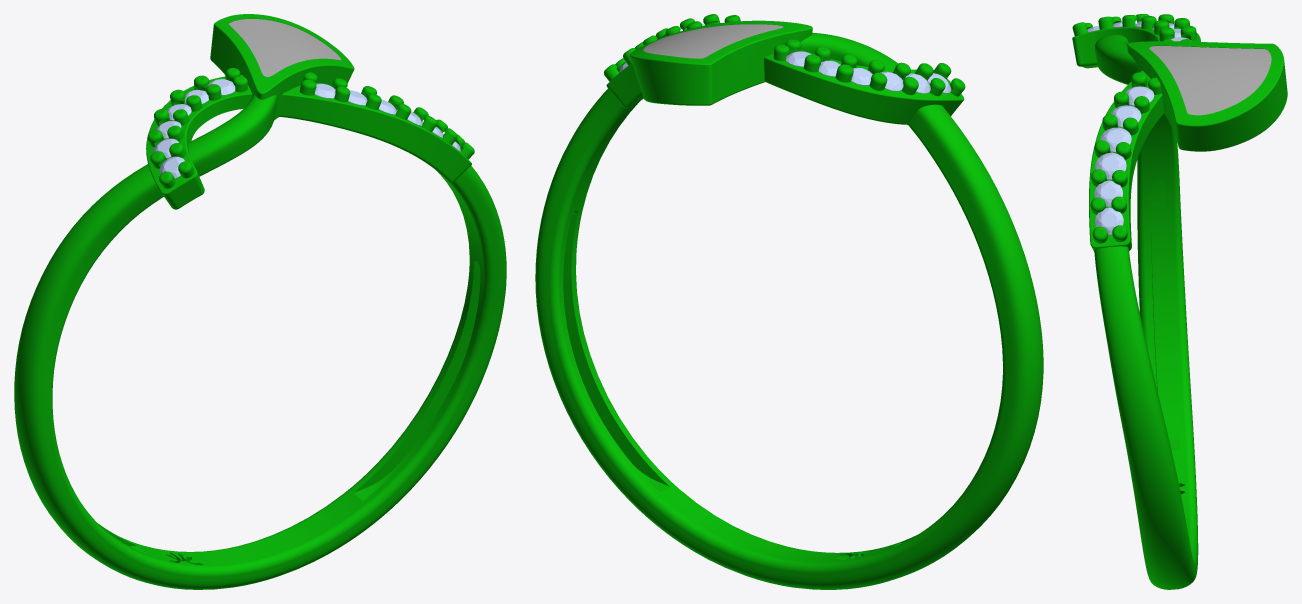
3 renders of one model, left to right at view 1: azimuth 30°, elevation 25°; view 2: azimuth 150°, elevation 25°; view 3: azimuth 270°, elevation 25°, orthographic. The views are drawn at different scales.
Visible parts, largest first — view 1: A.3dm; view 2: A.3dm; view 3: A.3dm.
Part boxes in pixels (box(x1,y1,x2,y2)): A.3dm: box(14, 14, 506, 589); A.3dm: box(535, 14, 1043, 589); A.3dm: box(1072, 14, 1287, 589).
Bounding box in the file's own units: 2.68 × 2.79 × 1.03.
